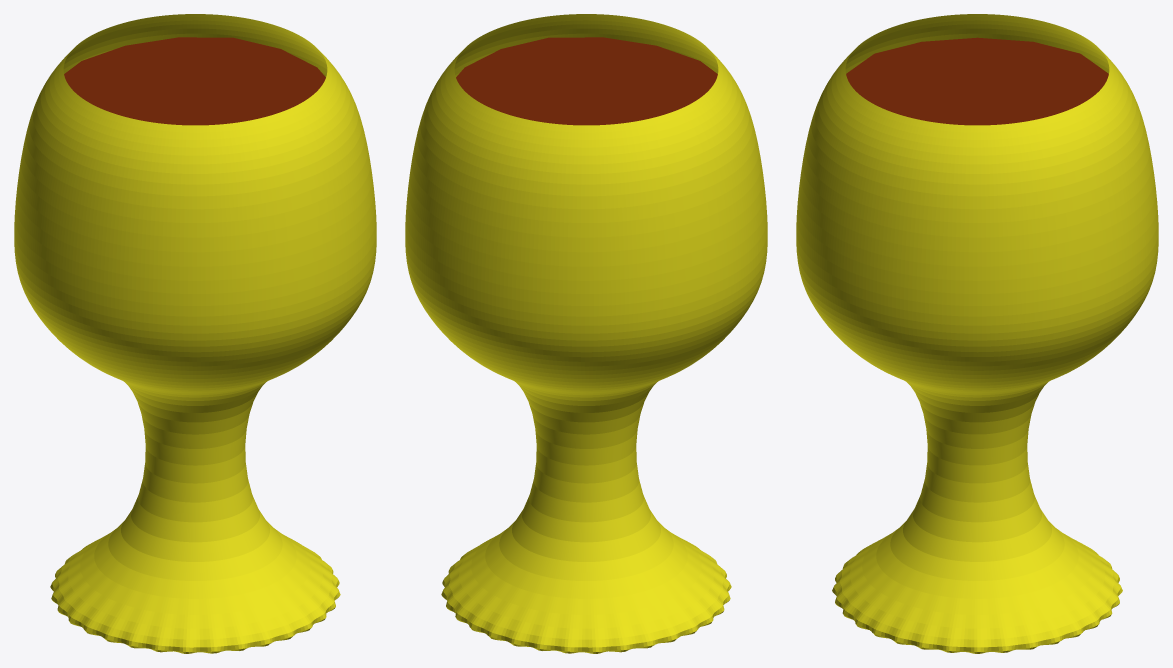
Rendered from blood_cup.glb.
3 views of the same model, side by side, from view 1: azimuth 30°, elevation 25°; view 2: azimuth 150°, elevation 25°; view 3: azimuth 270°, elevation 25° (orthographic).
Visible parts, largest first — view 1: Cylinder, Plane; view 2: Cylinder, Plane; view 3: Cylinder, Plane.
Part boxes in pixels (<box>): Cylinder: <box>14,14,376,653</box>; Plane: <box>64,37,325,125</box>; Cylinder: <box>405,14,767,653</box>; Plane: <box>456,37,717,125</box>; Cylinder: <box>796,14,1158,653</box>; Plane: <box>846,37,1108,125</box>.
Size of the model in its own units: 2.29 by 3.74 by 2.29.
